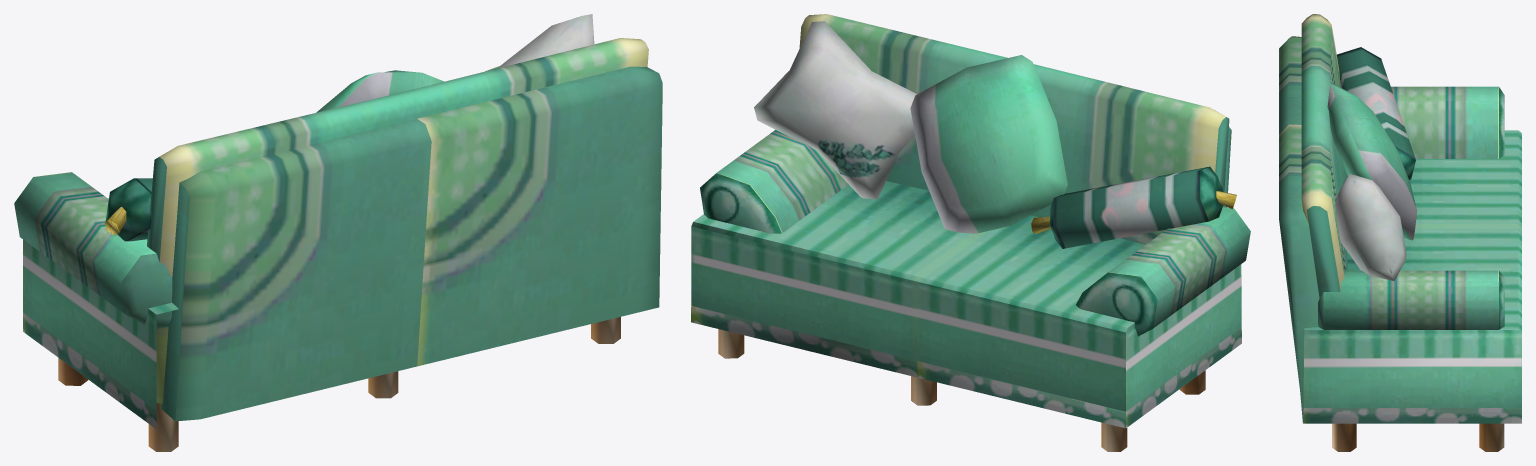
The model's file is furni_0200512_02.FBX.
The picture shows the model from 3 angles, left to right: view 1: azimuth 30°, elevation 25°; view 2: azimuth 150°, elevation 25°; view 3: azimuth 270°, elevation 25°; orthographic projection. The views are drawn at different scales.
Parts seen in each view (by area): view 1: furni_0200512_02; view 2: furni_0200512_02; view 3: furni_0200512_02.
Part boxes in pixels (left/top/right/bottom): furni_0200512_02: left=14, top=14, right=662, bottom=451; furni_0200512_02: left=691, top=14, right=1250, bottom=451; furni_0200512_02: left=1279, top=14, right=1521, bottom=451.
Size of the model in its own units: 159 by 94.22 by 76.9.
Materials: 1 (1 with a texture image).
